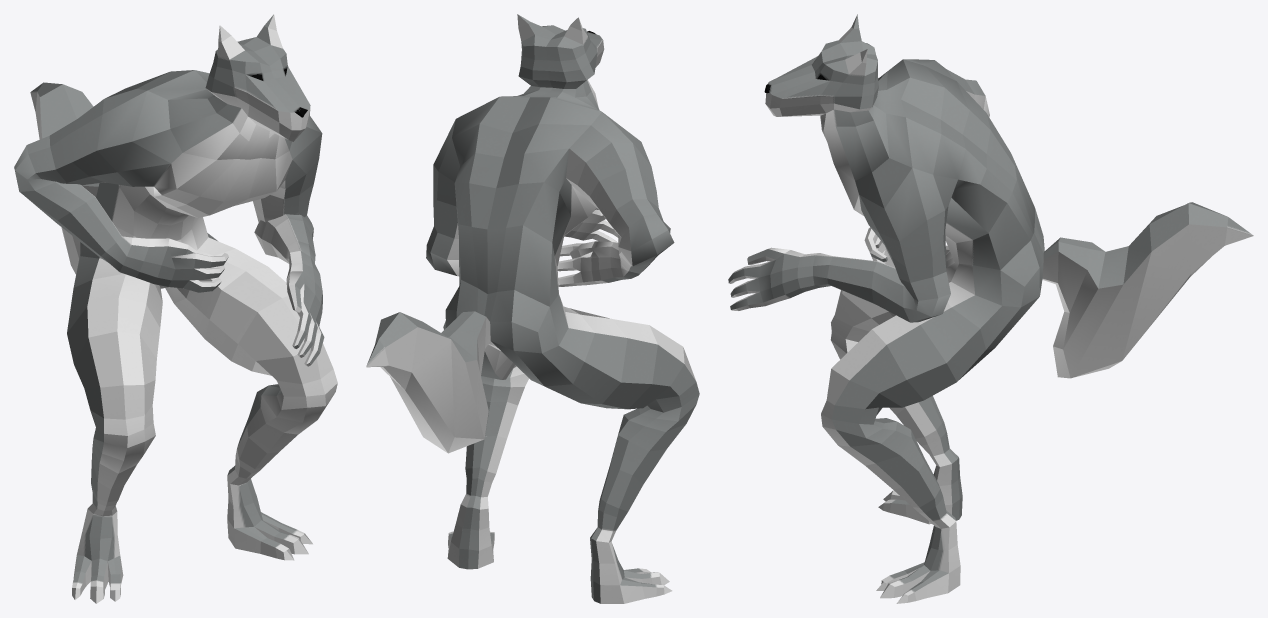
The model's file is WolfIdle_(81).obj.
3 renders of one model, left to right at view 1: azimuth 30°, elevation 25°; view 2: azimuth 150°, elevation 25°; view 3: azimuth 270°, elevation 25°, orthographic. The views are drawn at different scales.
Parts seen in each view (by area): view 1: Box001; view 2: Box001; view 3: Box001.
Part boxes in pixels (x1,y1,x2,y2): Box001: (14,14,337,603); Box001: (366,14,699,603); Box001: (728,14,1253,603).
Bounding box in the file's own units: 66.89 × 131 × 116.
